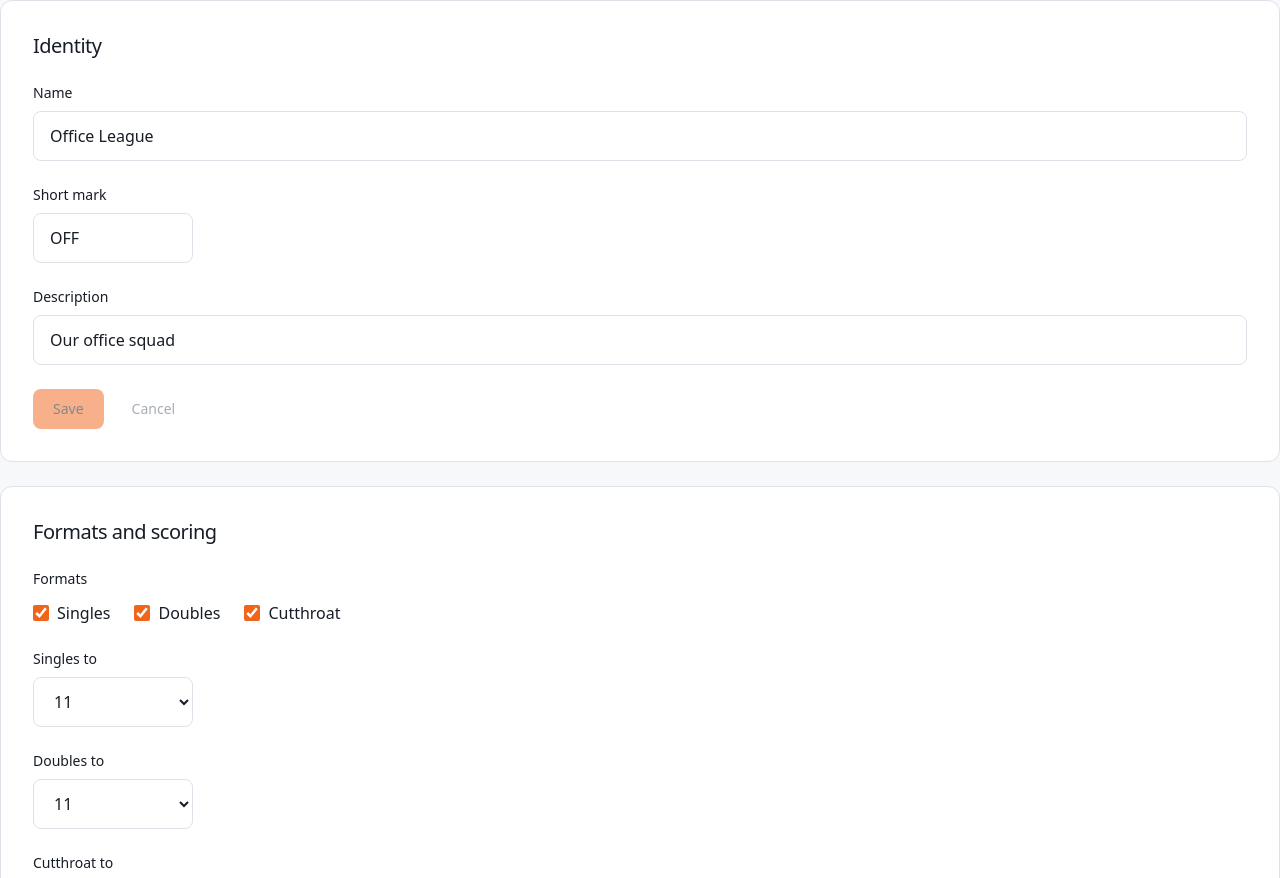
Scenario: a save whose answer was lost › settles as saved without ever having offered a retry
Replace the text in the field with id "setting-name" with "Renamed": (640, 136) [33,111,1247,161]
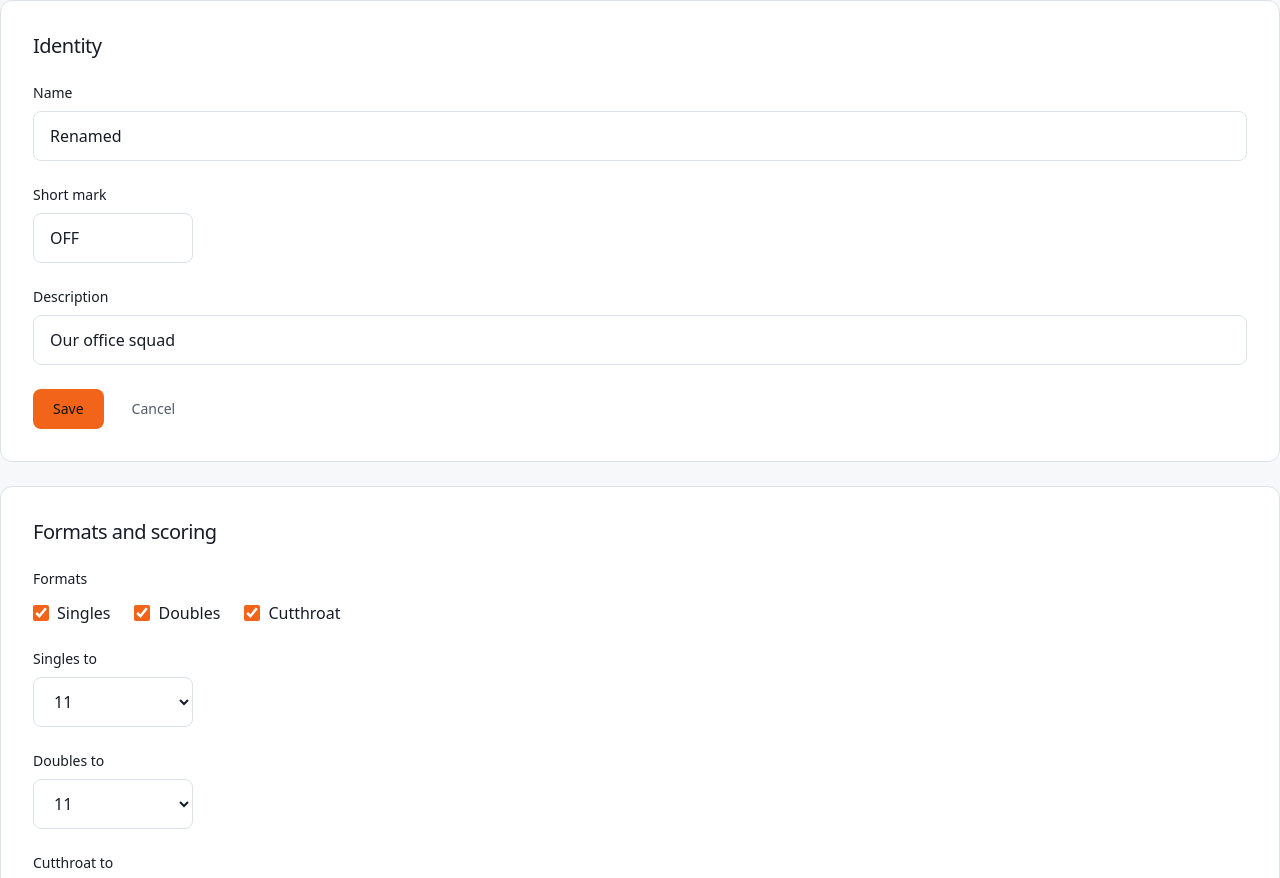
Click the button "Save": (68, 409) [33,389,104,429]
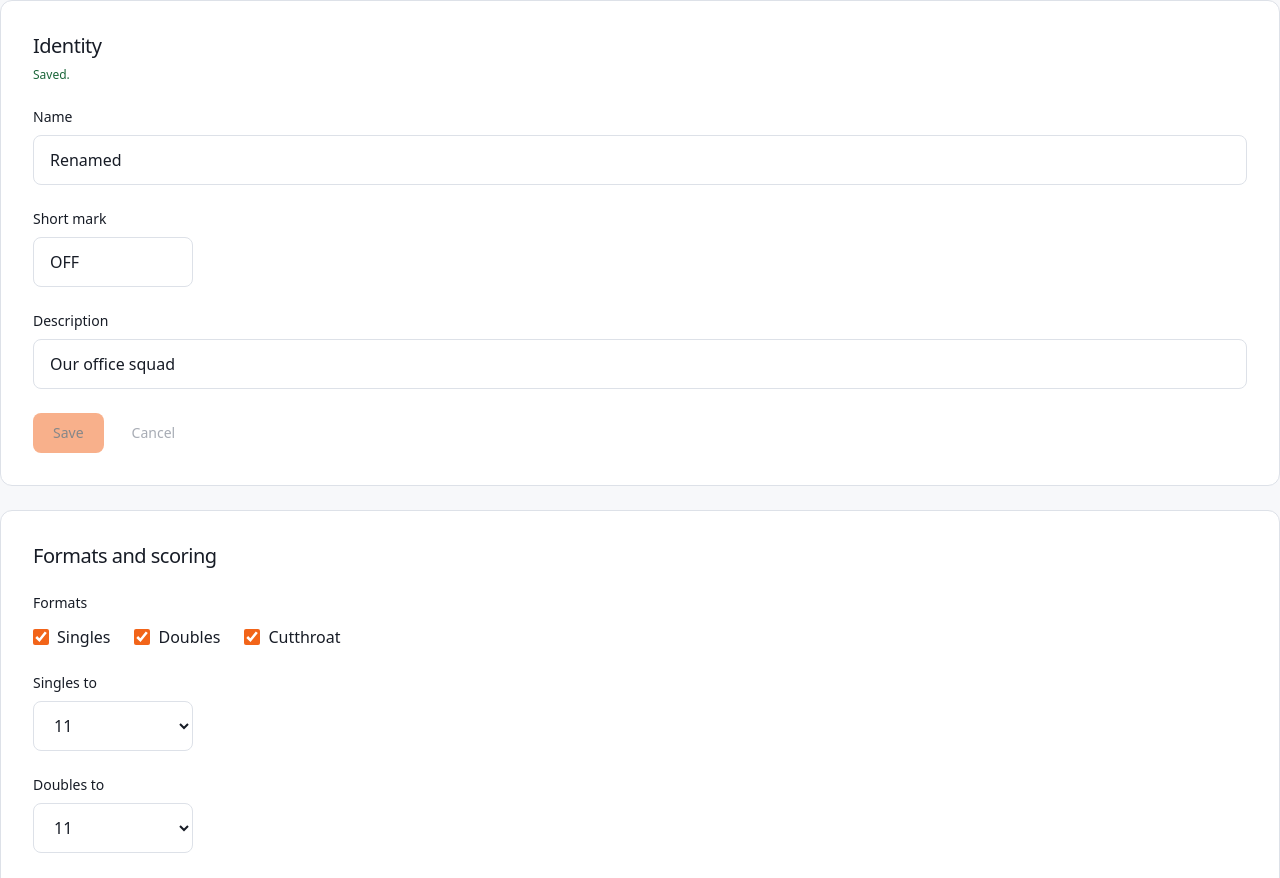
Expected: the element showing "Identity Saved. Name Short mark Description Save Cancel" is shown, [0,0,1279,486]
